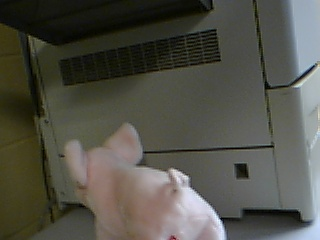piggy: (63, 121, 231, 240)
